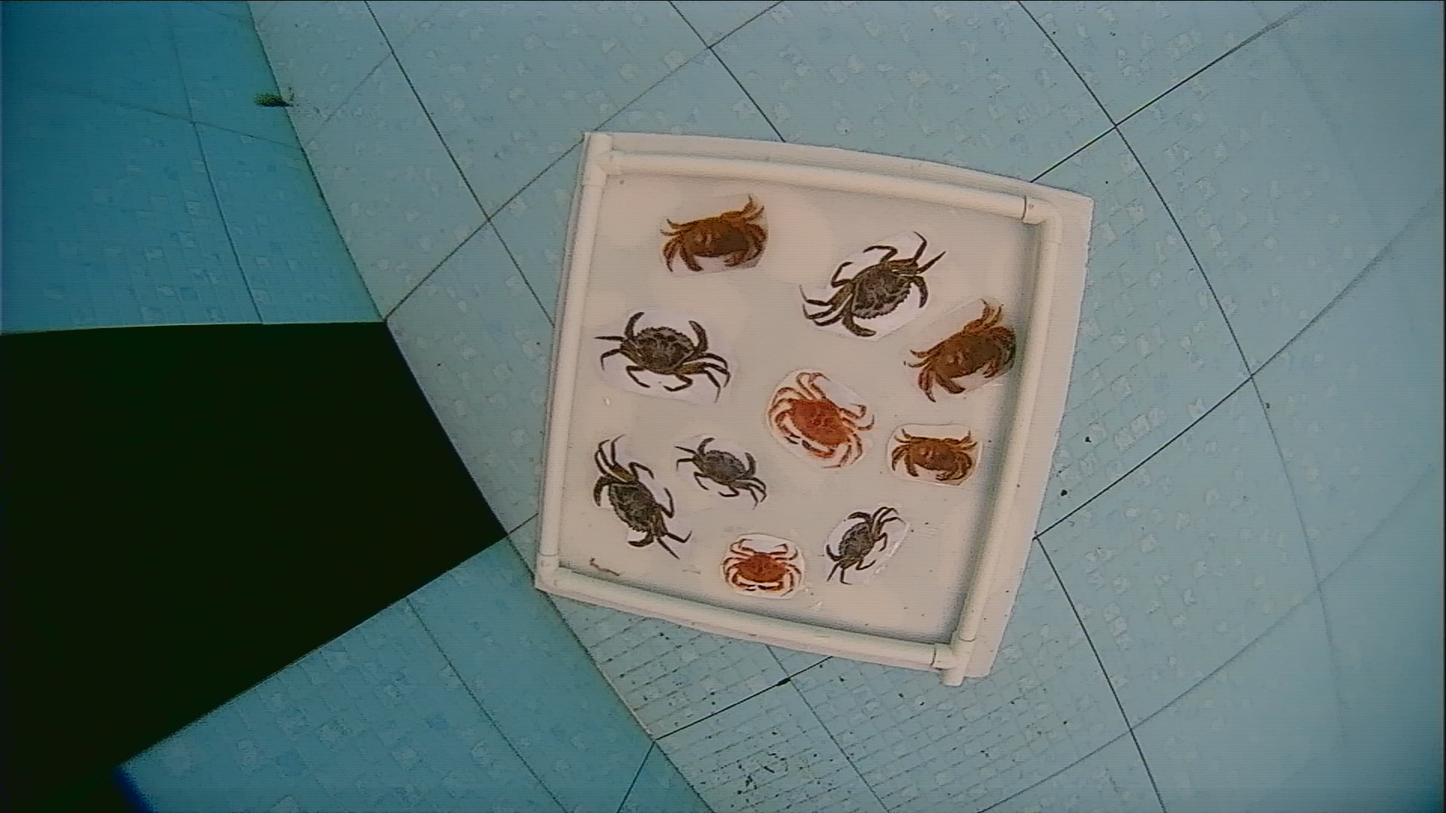GreenCrab: (804, 233, 946, 336), (595, 311, 731, 400), (593, 436, 691, 558), (675, 437, 766, 507), (825, 507, 903, 580)
